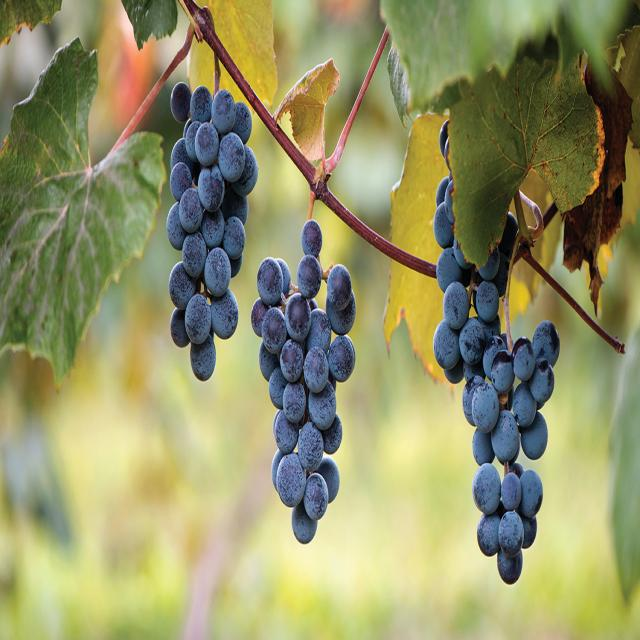grape: (398, 103, 573, 619), (241, 194, 360, 578), (157, 54, 266, 398)
